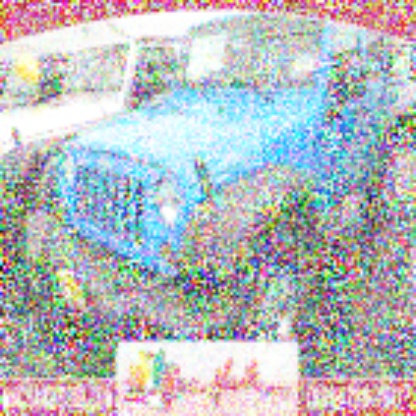Vehicle: (23, 17, 409, 387)
